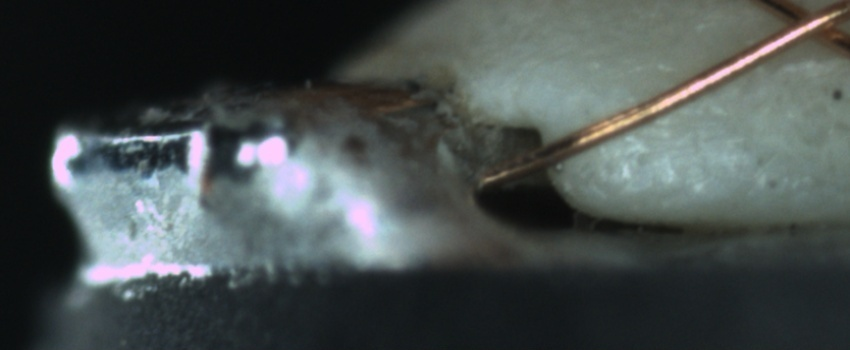CL: (757, 1, 848, 54)
